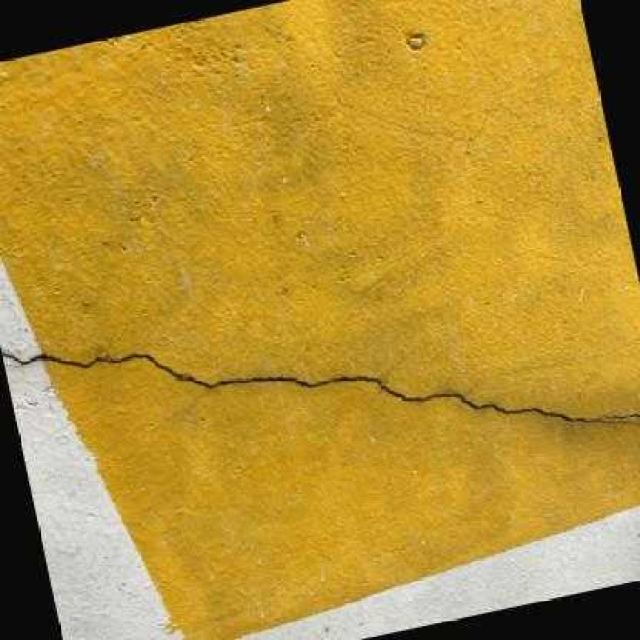D00: (0, 347, 640, 422)
